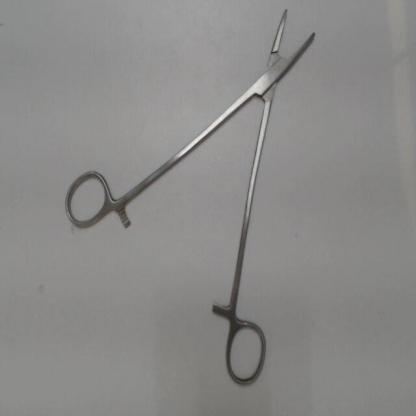8 Mayo Needle Holder: (58, 3, 331, 395)
